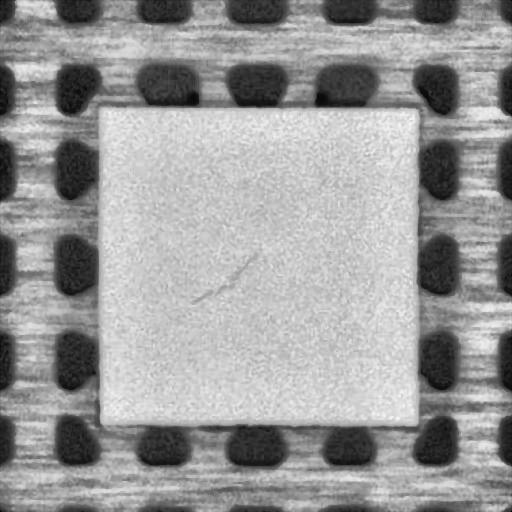DIE_CRACK: (190, 244, 264, 302)
